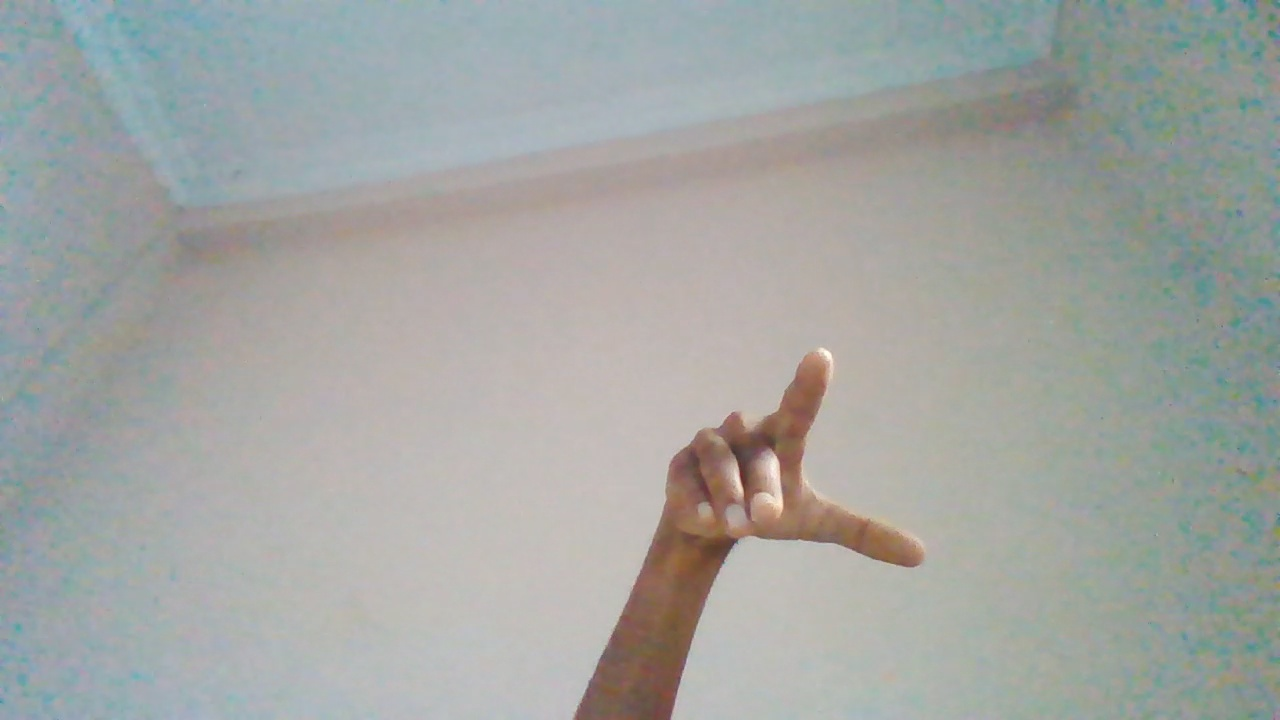ke: (653, 355, 916, 711)
